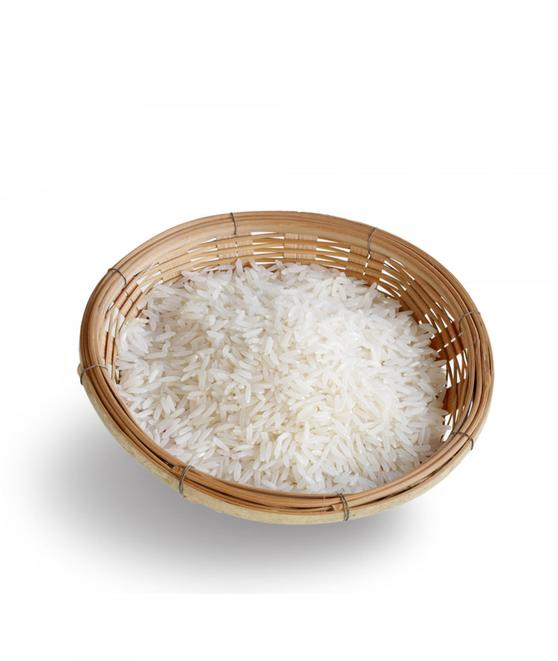rice: (188, 285, 412, 451)
